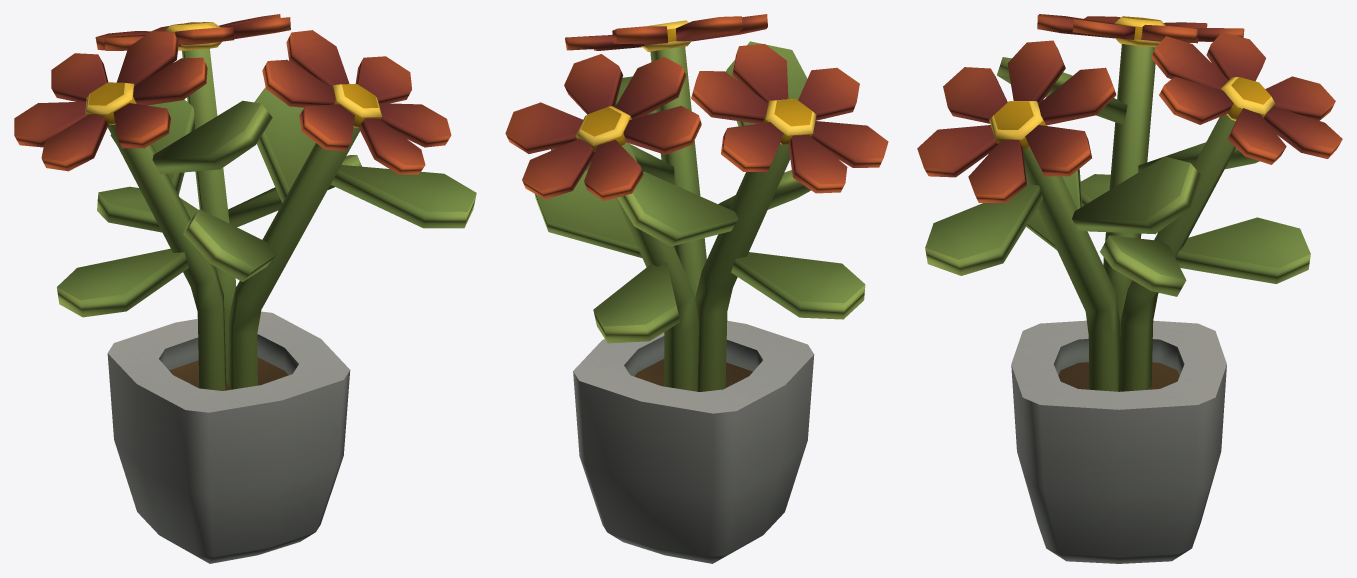
Rendered from flower_bunch_red_pot.fbx.
3 views of the same model, side by side, from view 1: azimuth 30°, elevation 25°; view 2: azimuth 150°, elevation 25°; view 3: azimuth 270°, elevation 25° (orthographic).
Visible parts, largest first — view 1: flower_bunch_red_pot; view 2: flower_bunch_red_pot; view 3: flower_bunch_red_pot.
Boxes of the visible parts, <box> form: flower_bunch_red_pot: <box>14,14,476,563</box>; flower_bunch_red_pot: <box>505,14,888,563</box>; flower_bunch_red_pot: <box>917,14,1342,563</box>.
Size of the model in its own units: 82.07 by 108 by 83.37.
